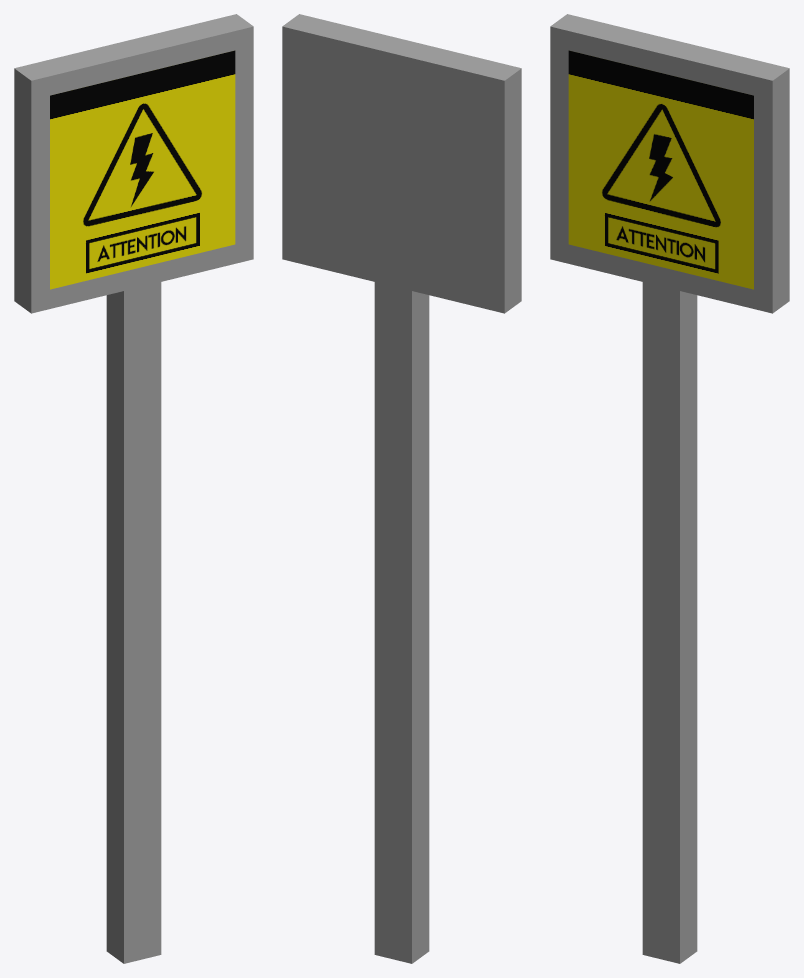
The model's file is Panneau attention.fbx.
The picture shows the model from 3 angles, left to right: view 1: azimuth 30°, elevation 25°; view 2: azimuth 150°, elevation 25°; view 3: azimuth 330°, elevation 25°; orthographic projection.
Visible parts, largest first — view 1: panneau_attention; view 2: panneau_attention; view 3: panneau_attention.
Part boxes in pixels (bbox=[...]): panneau_attention: bbox=[14, 14, 253, 963]; panneau_attention: bbox=[282, 14, 521, 963]; panneau_attention: bbox=[550, 14, 789, 963].
Size of the model in its own units: 0.4284 by 1.67 by 0.057.
Materials: 2 (1 with a texture image).
